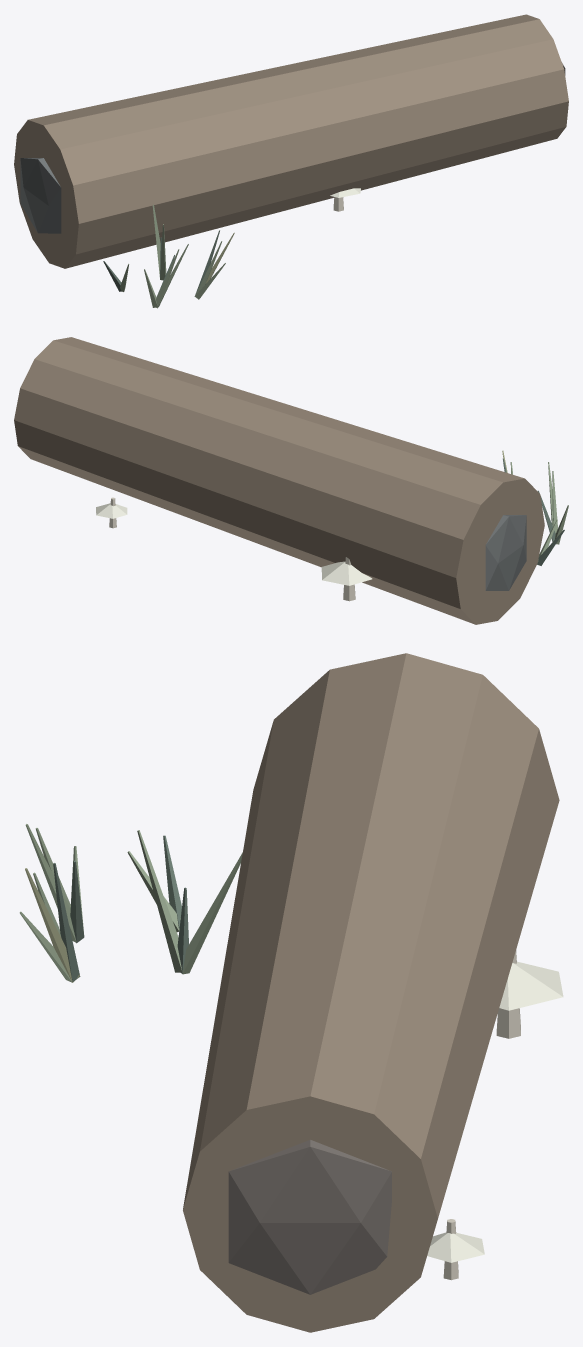
The model's file is hollow_fallen_log.glb.
3 renders of one model, top to bottom at view 1: azimuth 30°, elevation 25°; view 2: azimuth 150°, elevation 25°; view 3: azimuth 270°, elevation 25°, orthographic. The views are drawn at different scales.
Parts seen in each view (by area): view 1: material_00, material_01, material_06, material_05; view 2: material_00, material_01, material_04, material_06, material_05; view 3: material_00, material_02, material_06, material_04, material_05, material_03, material_07.
Boxes of the visible parts, x1,y1,x2,y2 form: material_00: (14, 14, 568, 268); material_01: (20, 158, 61, 233); material_06: (120, 204, 225, 308); material_05: (103, 230, 219, 297); material_00: (14, 337, 544, 624); material_01: (485, 515, 526, 590); material_04: (96, 503, 372, 585); material_06: (510, 462, 568, 561); material_05: (503, 458, 564, 565); material_00: (183, 653, 559, 1332); material_02: (228, 1139, 391, 1294); material_06: (19, 824, 242, 982); material_04: (427, 961, 563, 1262); material_05: (53, 835, 188, 981); material_03: (443, 950, 520, 1280); material_07: (25, 868, 79, 982).
Bounding box in the file's own units: 1.77 × 0.5096 × 0.8495.
